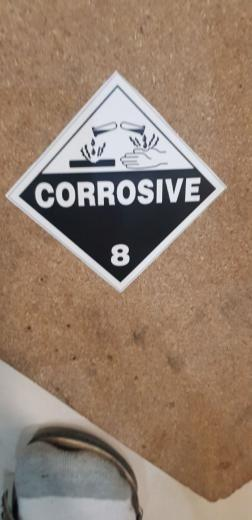corrosive: (4, 73, 231, 295)
